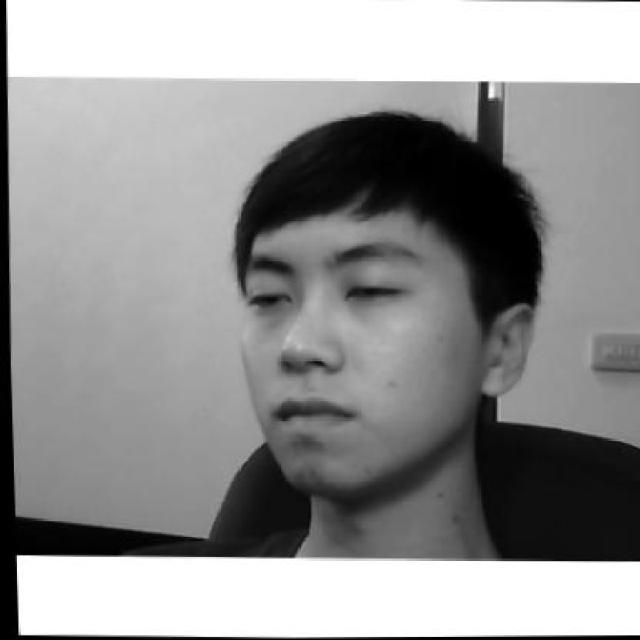inattentif: (226, 103, 539, 500)
